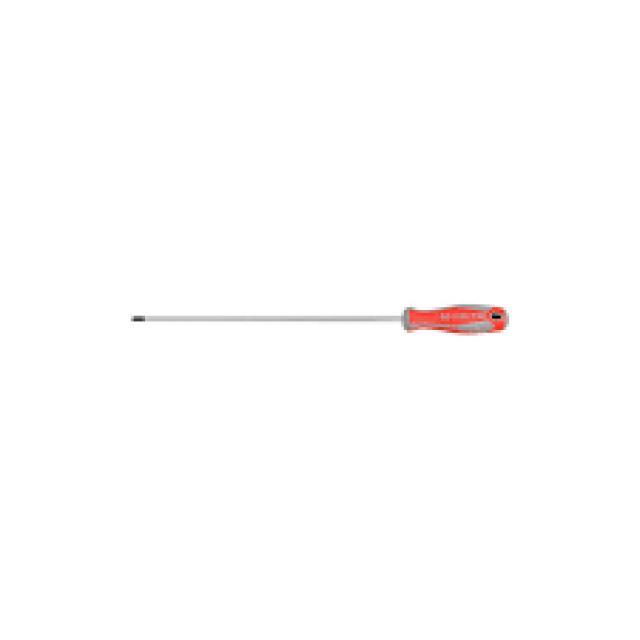screwdriver: (126, 300, 524, 340)
